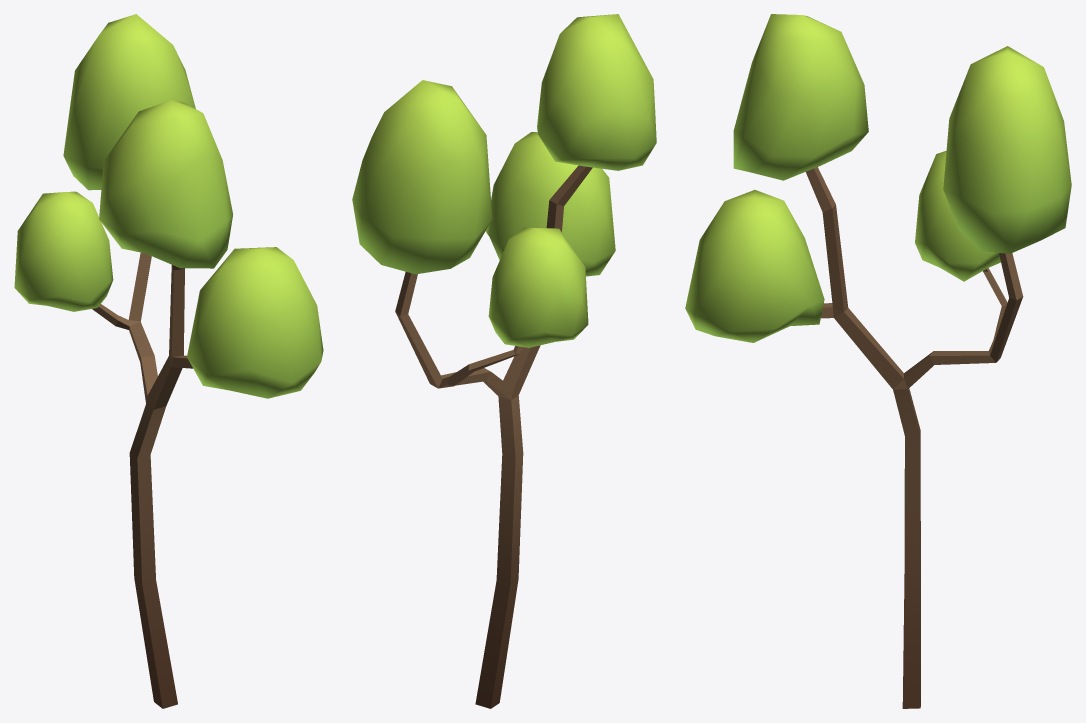
The model's file is Tree3.FBX.
The picture shows the model from 3 angles, left to right: view 1: azimuth 30°, elevation 25°; view 2: azimuth 150°, elevation 25°; view 3: azimuth 270°, elevation 25°; orthographic projection.
Visible parts, largest first — view 1: Tree3; view 2: Tree3; view 3: Tree3.
Part boxes in pixels (<box>): Tree3: <box>14,14,323,708</box>; Tree3: <box>352,14,656,708</box>; Tree3: <box>685,14,1071,708</box>.
Bounding box in the file's own units: 257 × 816 × 429.
